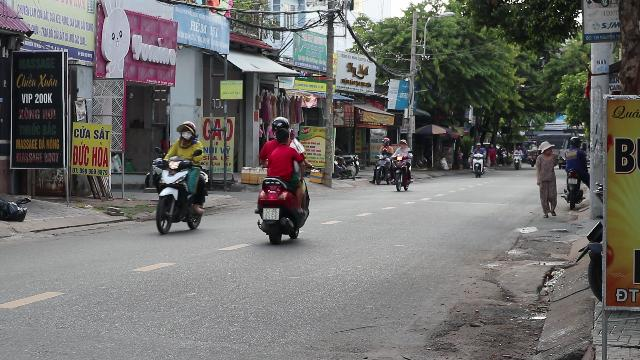helmet: (176, 120, 196, 142), (271, 116, 289, 128)
licenseplate: (263, 207, 279, 219)
motorcyclist: (252, 115, 312, 243), (150, 120, 212, 234)
nohelmet: (273, 127, 291, 145)
